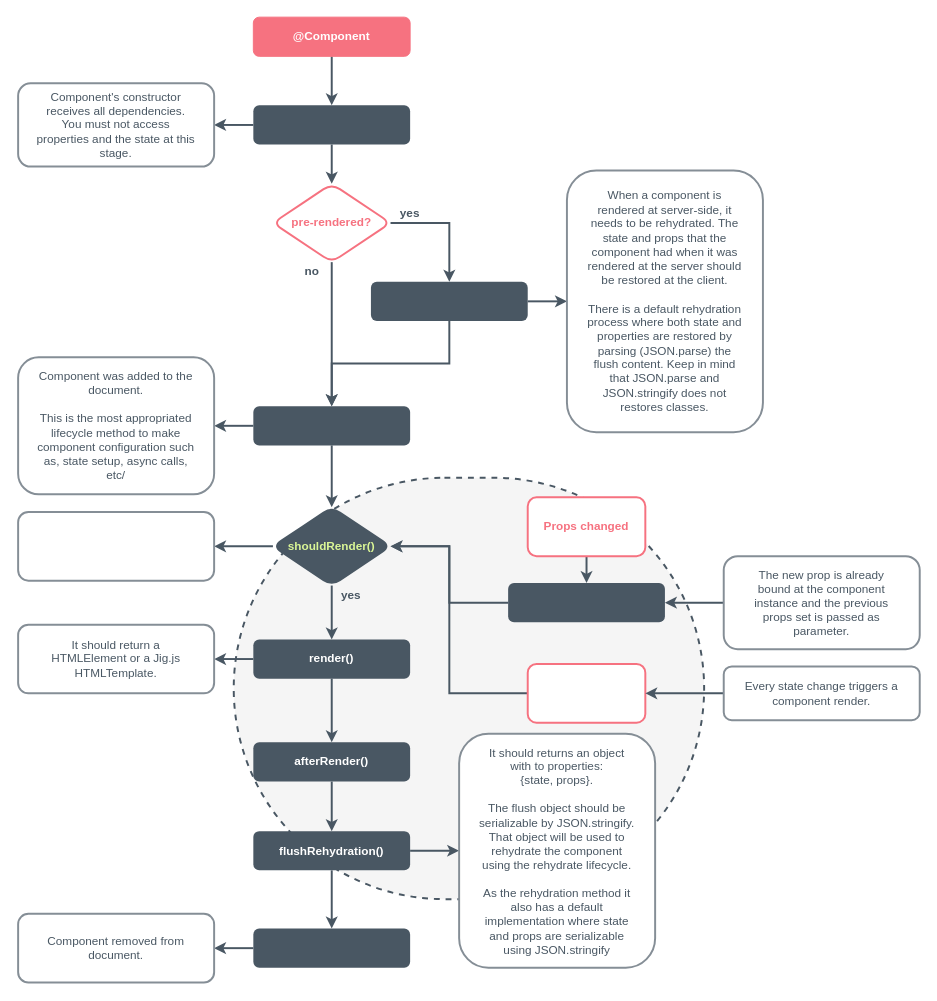
Some shapes in this 937 by 1001 pixel diagram are drawn without their labels. The centre of each missing label's shape, as x and y in pixels:
constructor(): the point at 331,124
mount(): the point at 331,425
propsChanged(oldProps): the point at 586,602
rehydrate(props, state): the point at 448,300
returns a boolean to control if the componente should be rerendered.: the point at 116,546
State changed: the point at 586,692
unmount(): the point at 331,947
